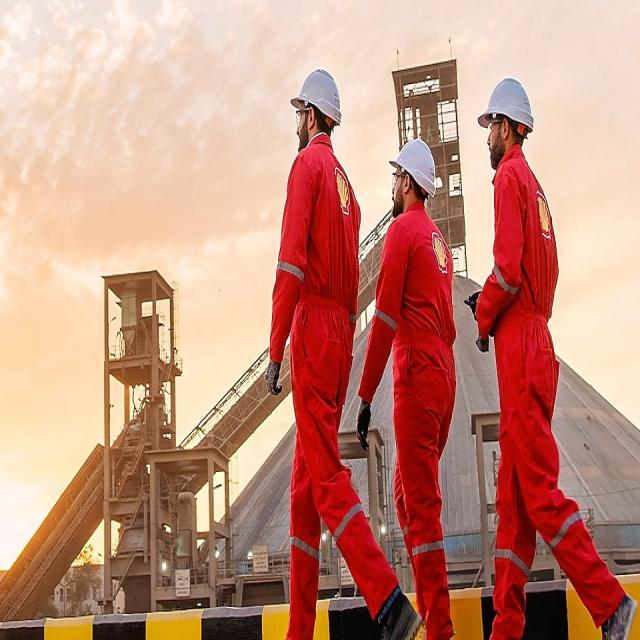vest: (474, 159, 628, 633), (258, 131, 400, 618), (357, 204, 465, 640)
